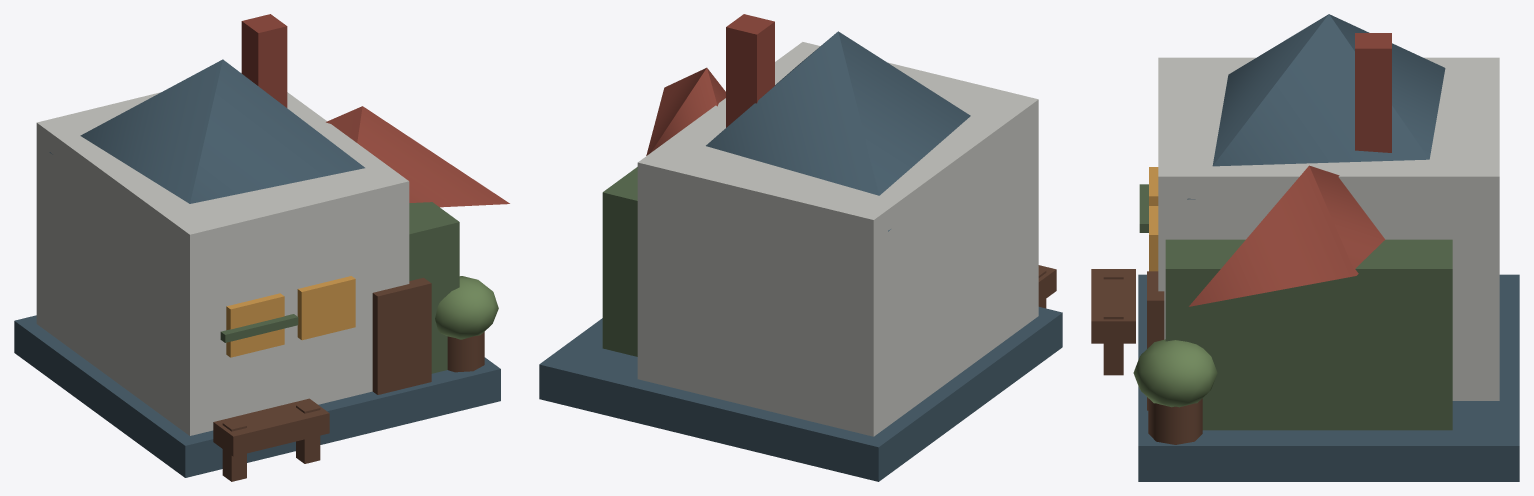
The model's file is home-row.glb.
3 renders of one model, left to right at view 1: azimuth 30°, elevation 25°; view 2: azimuth 150°, elevation 25°; view 3: azimuth 270°, elevation 25°, orthographic. The views are drawn at different scales.
Parts seen in each view (by area): view 1: HomeShell; view 2: HomeShell; view 3: HomeShell.
Part boxes in pixels (bbox=[...]): HomeShell: bbox=[14, 14, 509, 481]; HomeShell: bbox=[539, 14, 1062, 481]; HomeShell: bbox=[1091, 14, 1519, 481].
Bounding box in the file's own units: 1.81 × 1.65 × 1.73.
